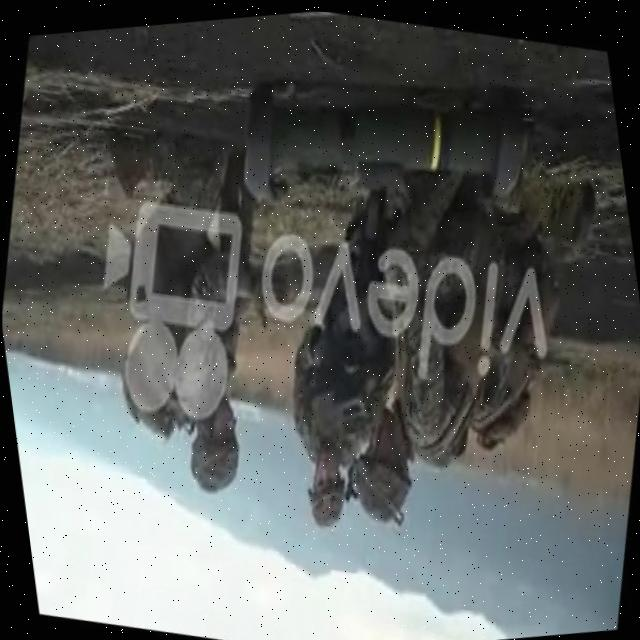rocket: (214, 17, 546, 267)
